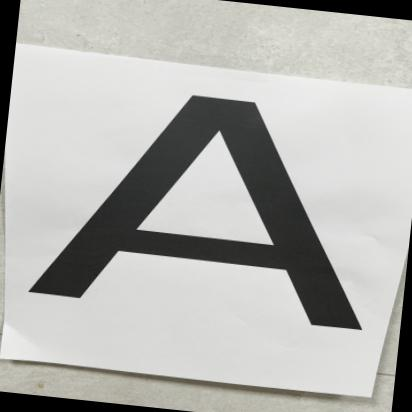seat: (30, 61, 400, 351)
